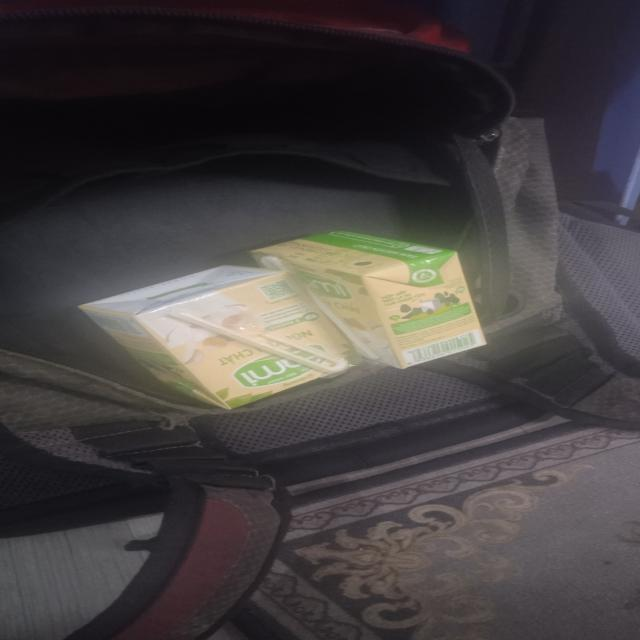Fami: (81, 266, 369, 414), (253, 229, 489, 370)
